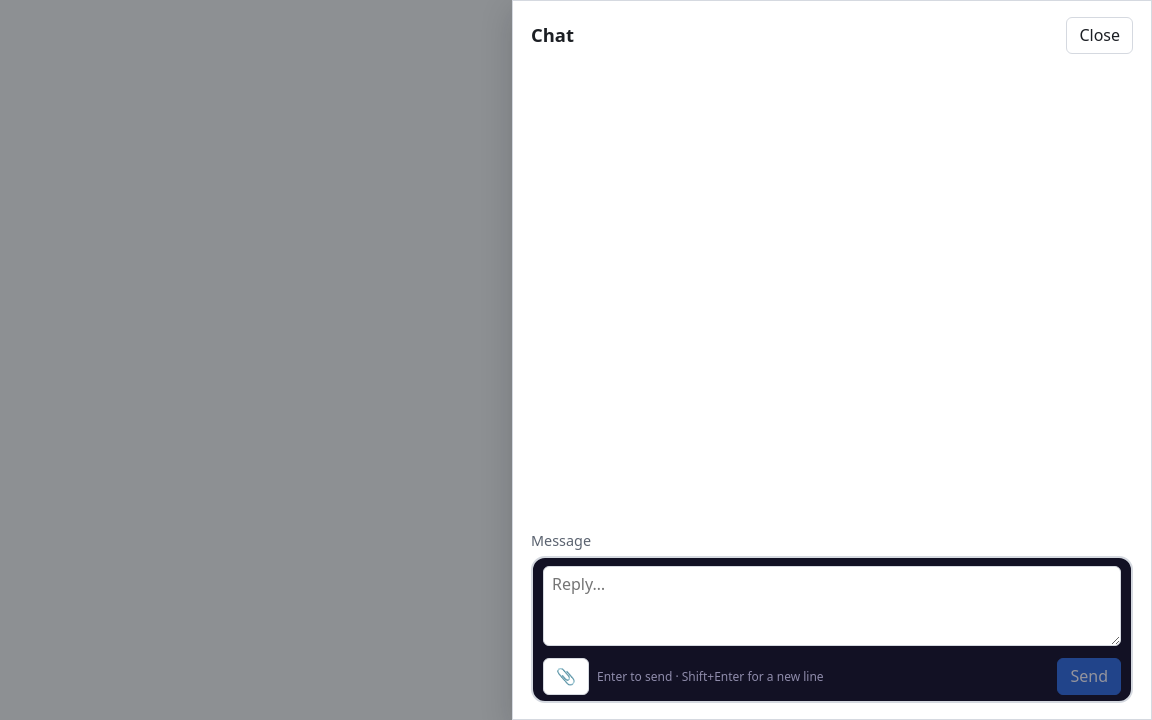
Test: shows the server's real error text when a send fails
Type "hi" into the text box labelled "Message" at (832, 606), box [543, 566, 1121, 646]
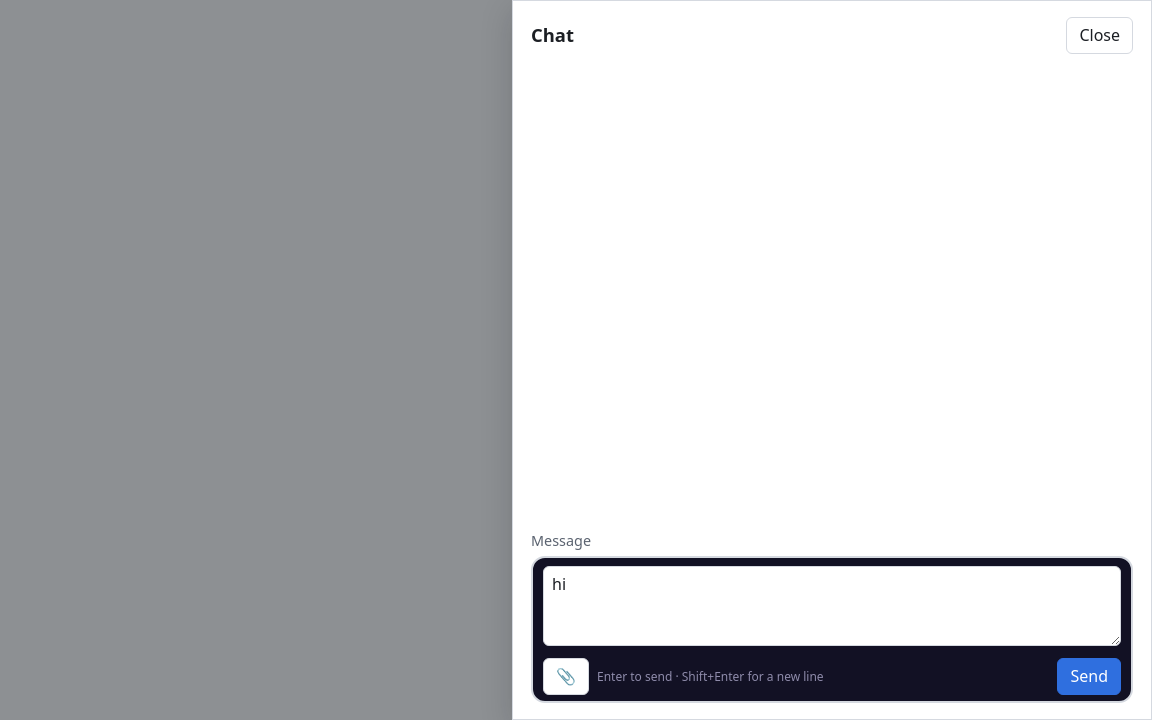
Click the button "Send" at (1089, 676), box [1058, 658, 1121, 695]
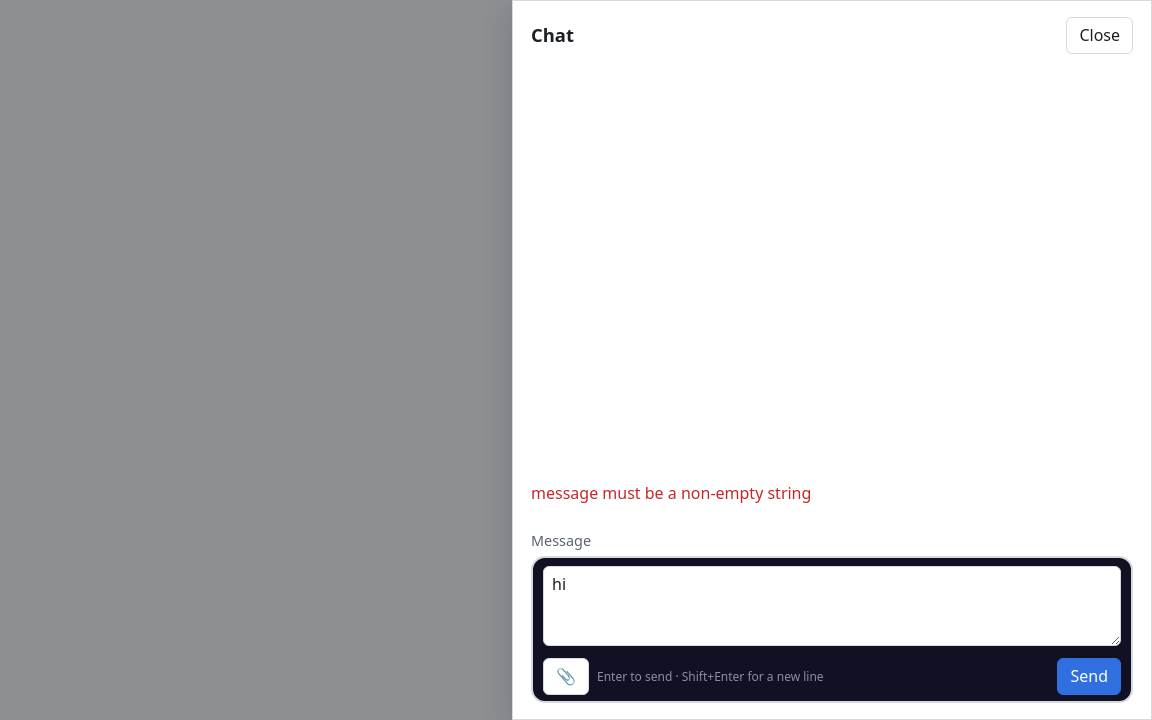
expect the message reads "message must be a non-empty string": met, box [531, 482, 811, 504]
